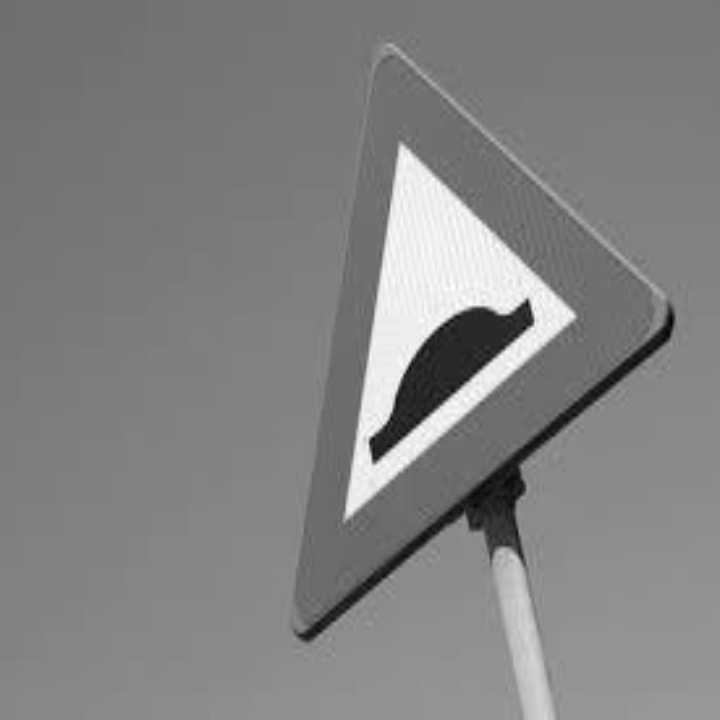bump: (338, 257, 553, 471)
